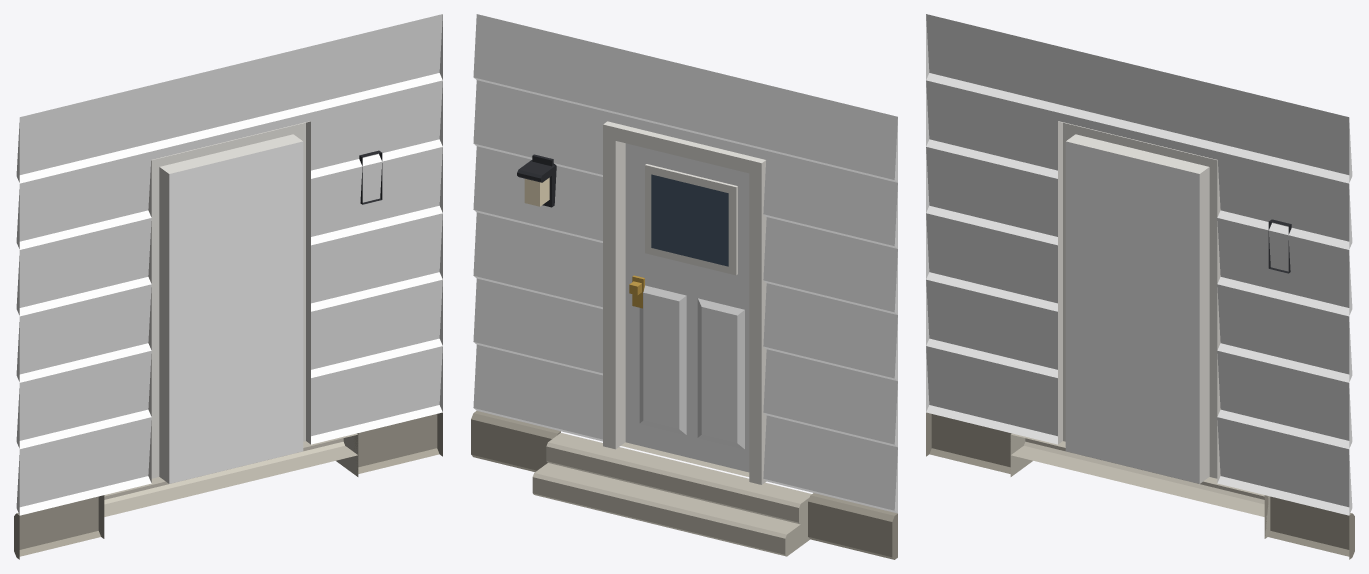
The model's file is house_wall_door.glb.
3 renders of one model, left to right at view 1: azimuth 30°, elevation 25°; view 2: azimuth 150°, elevation 25°; view 3: azimuth 330°, elevation 25°, orthographic.
Visible parts, largest first — view 1: house_wall_door__mesh; view 2: house_wall_door__mesh; view 3: house_wall_door__mesh.
Boxes of the visible parts, x1,y1,x2,y2 form: house_wall_door__mesh: (14, 14, 442, 559); house_wall_door__mesh: (471, 14, 897, 559); house_wall_door__mesh: (926, 14, 1354, 559).
Size of what is drawn, in the model's own units: 3 by 3 by 0.41.
2 materials, 1 textured.
